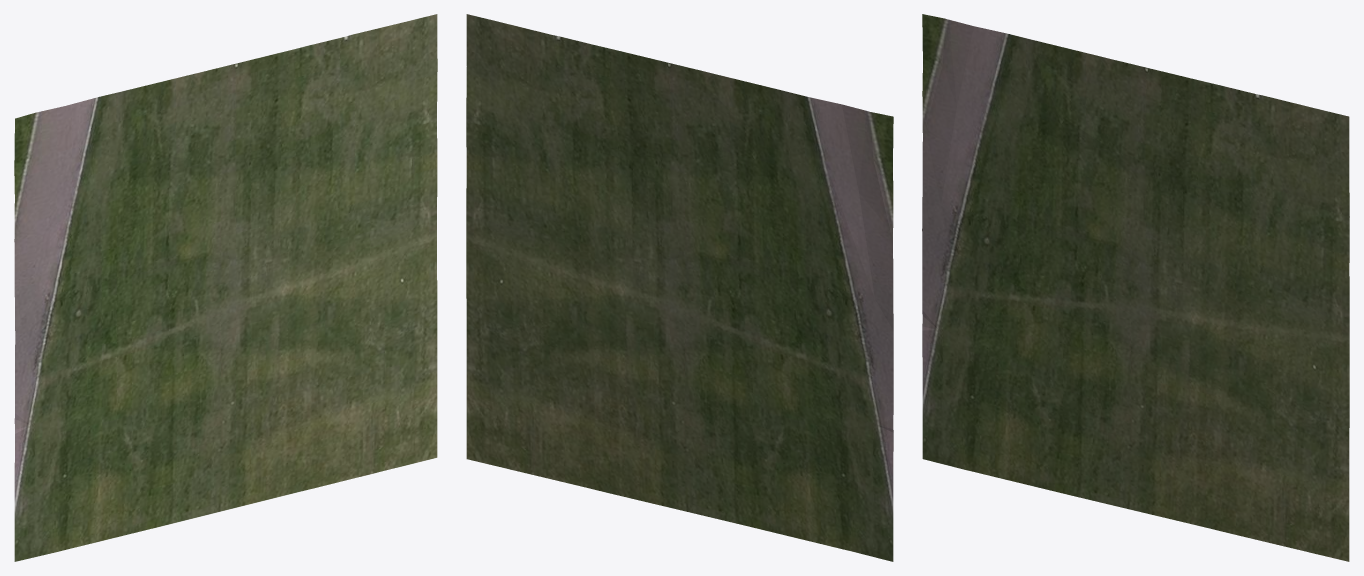
The model's file is Tile_+032_+023_L20_0003030.obj.
The picture shows the model from 3 angles, left to right: view 1: azimuth 30°, elevation 25°; view 2: azimuth 150°, elevation 25°; view 3: azimuth 330°, elevation 25°; orthographic projection.
Size of the model in its own units: 31.5 by 31.5 by 0.2746.
1 material, 1 textured.
